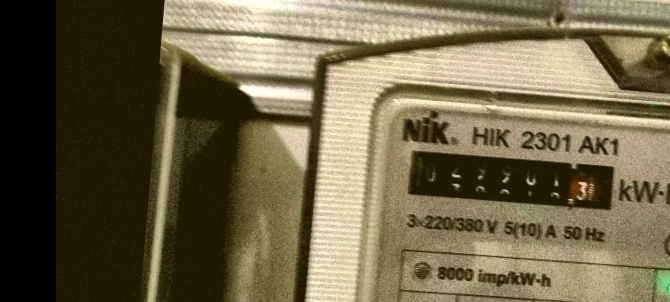0: (523, 161, 539, 187), (422, 160, 440, 182)
1: (548, 164, 563, 188)
2: (448, 159, 465, 179)
3: (574, 177, 589, 200)
9: (498, 161, 514, 184), (474, 159, 487, 182)
screen: (395, 138, 626, 220)
